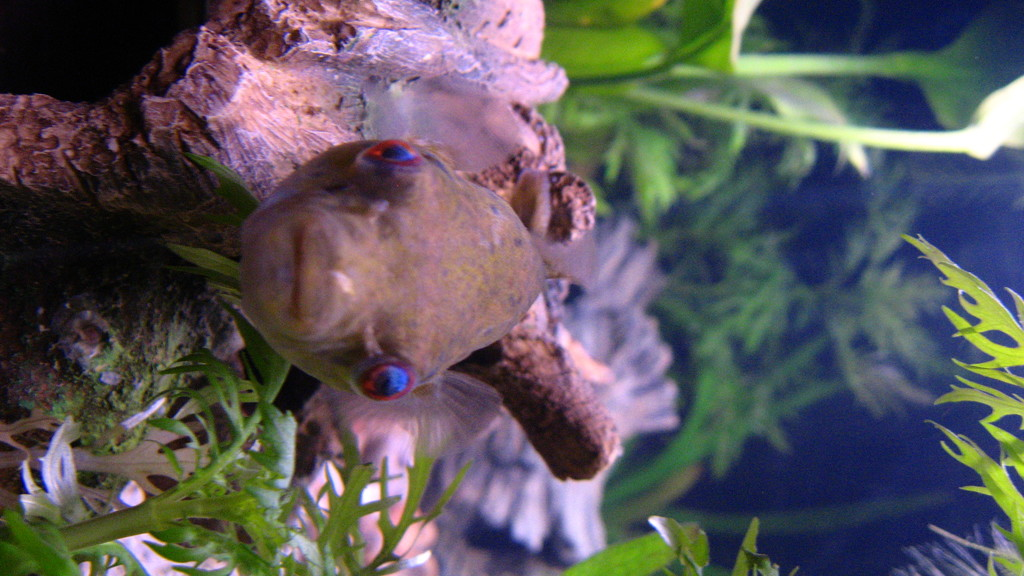Animal: (238, 68, 603, 474)
